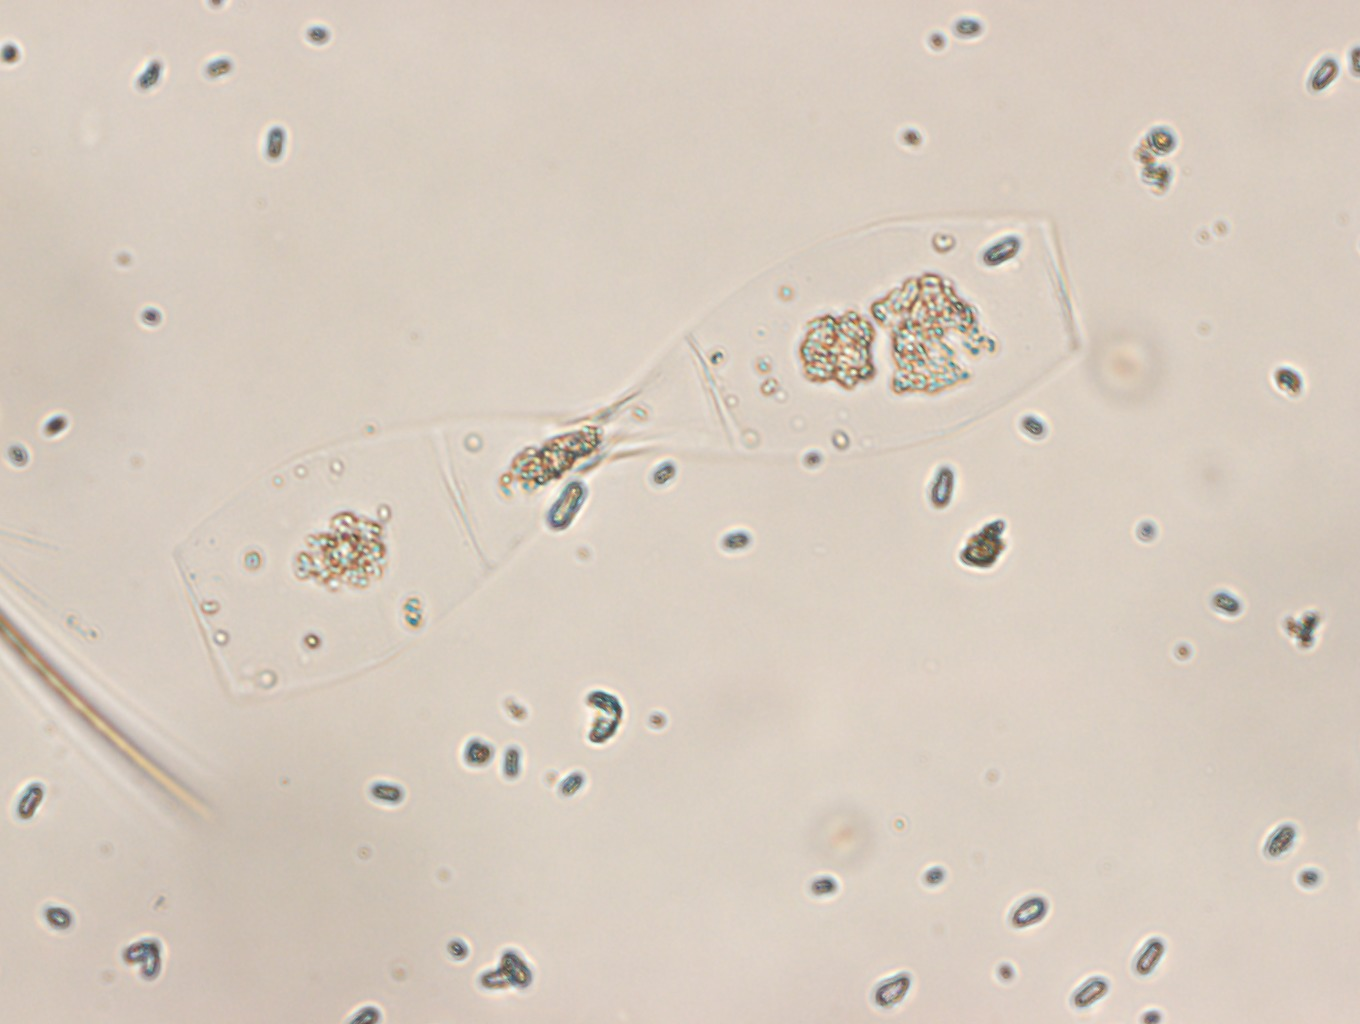helicotheca: (169, 214, 1090, 703)
